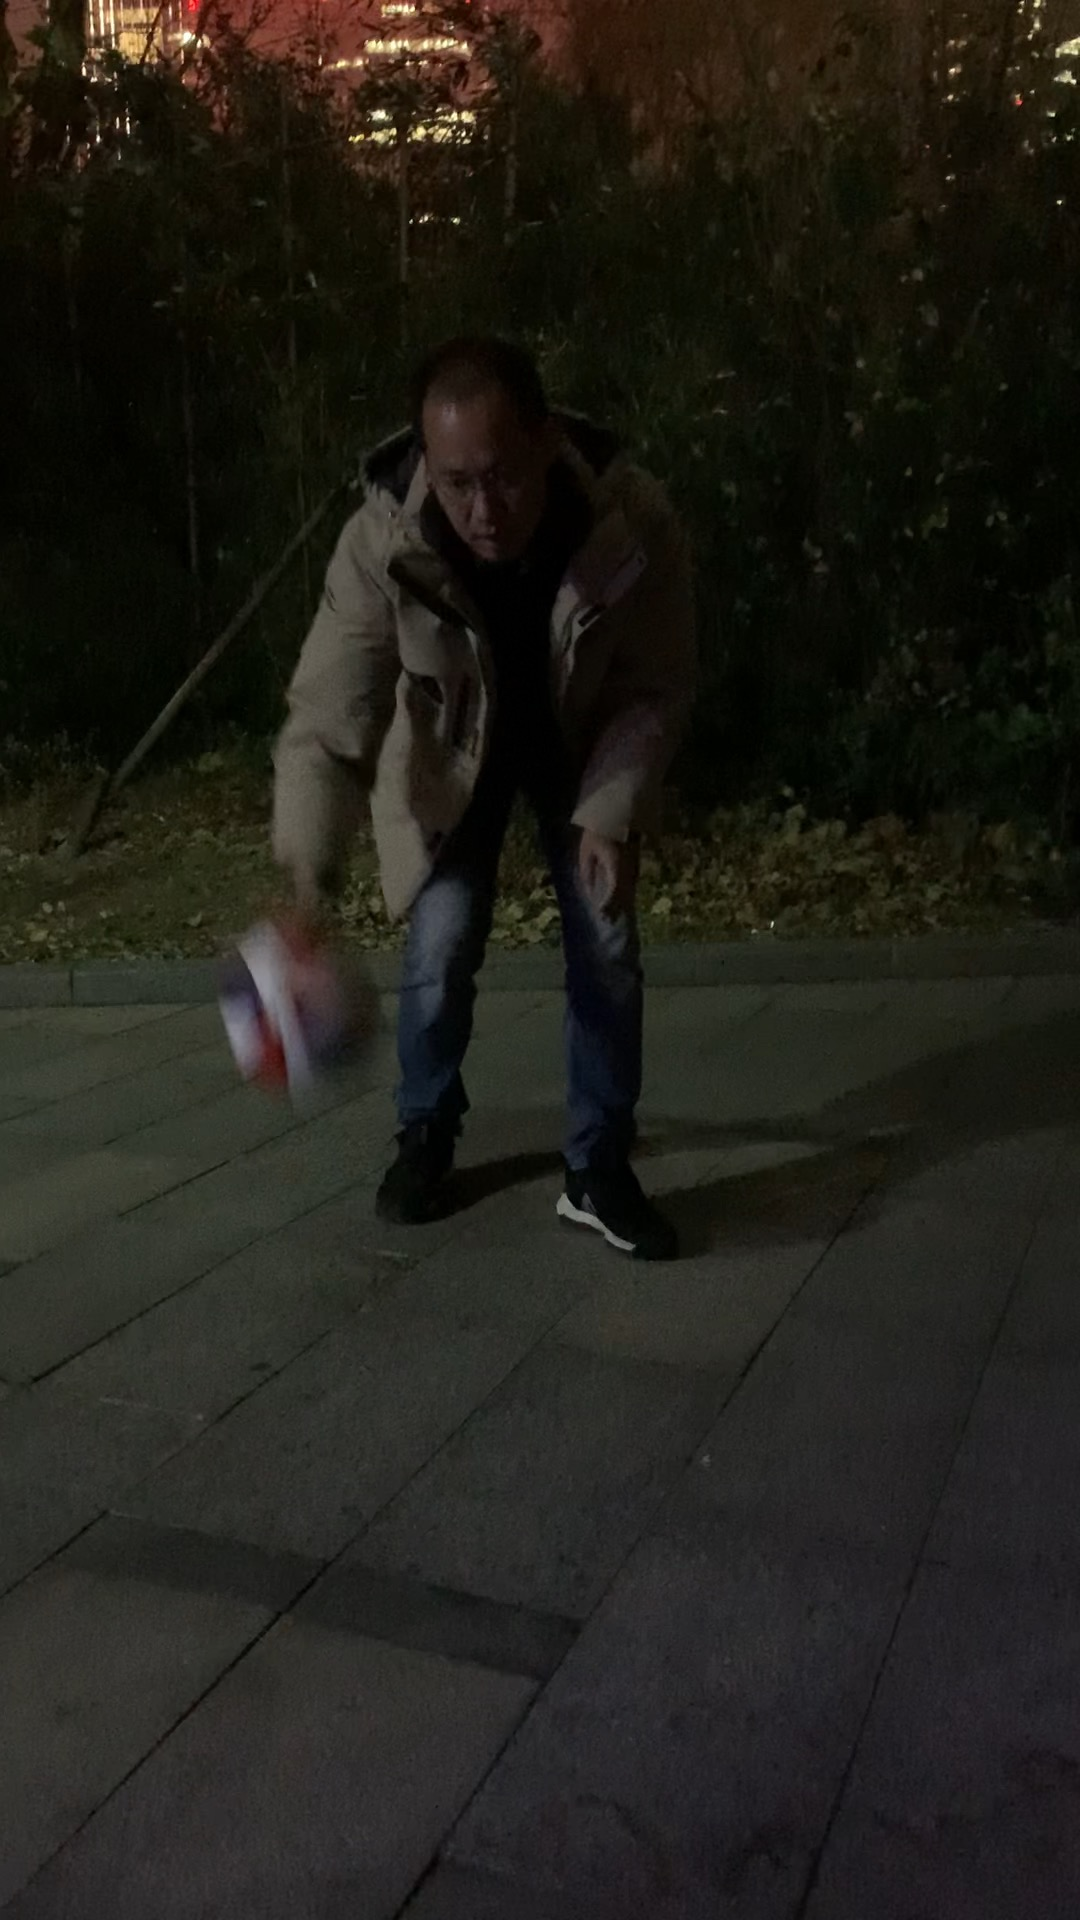ball: (220, 919, 385, 1102)
